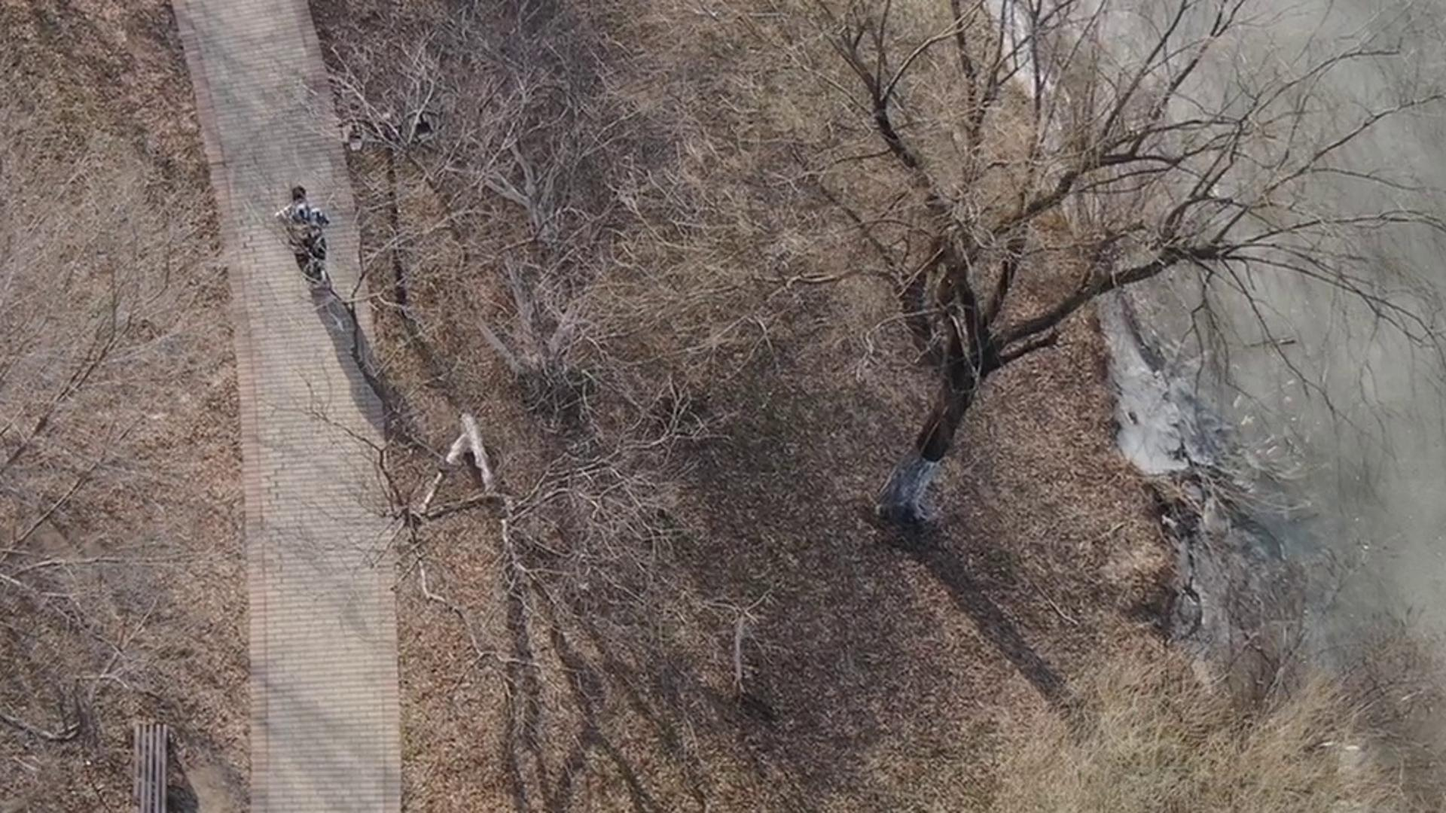human: (263, 179, 304, 290)
